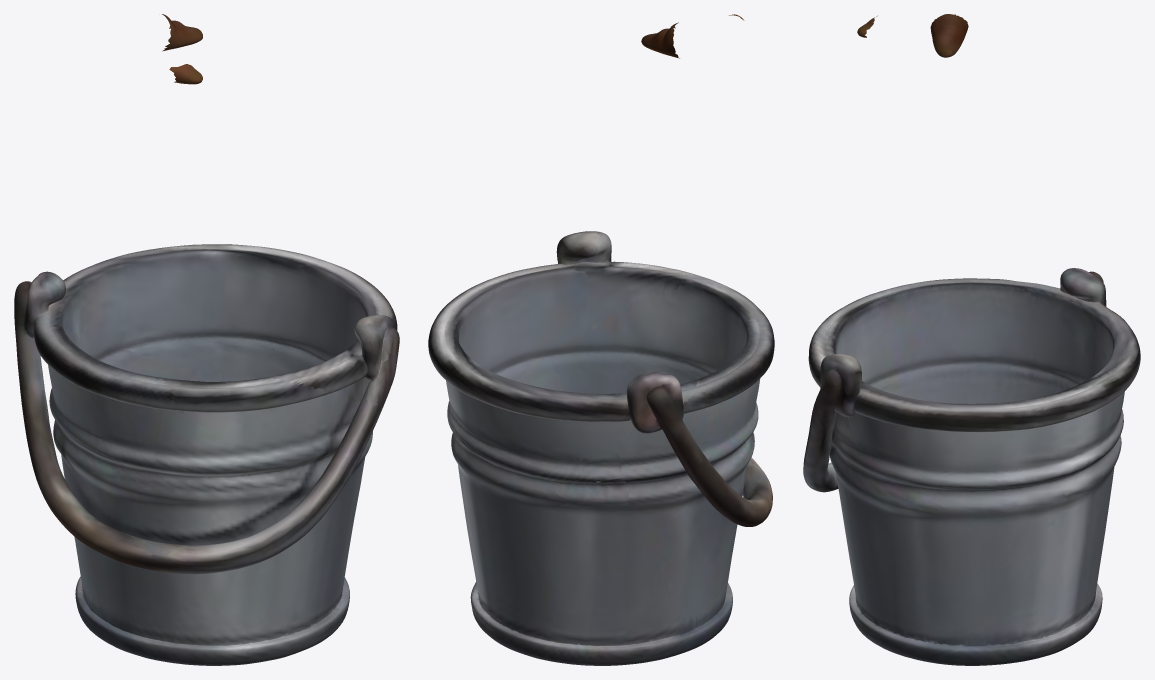
The picture shows the model from 3 angles, left to right: view 1: azimuth 30°, elevation 25°; view 2: azimuth 150°, elevation 25°; view 3: azimuth 270°, elevation 25°; orthographic projection. The views are drawn at different scales.
Size of the model in its own units: 0.1028 by 0.192 by 0.1022.
Materials: 1 (1 with a texture image).
